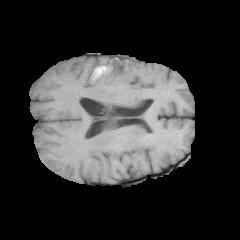glioma: (95, 56, 143, 90)
